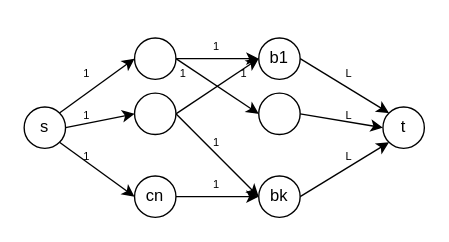
Image size: 449x242. Some labels were removed from this diagram. Here are the shapes that lost their labels. From the top down, the centre of each, then its label:
At pixel 154 58: "c1".
At pixel 154 113: "c2".
At pixel 278 113: "b2".
